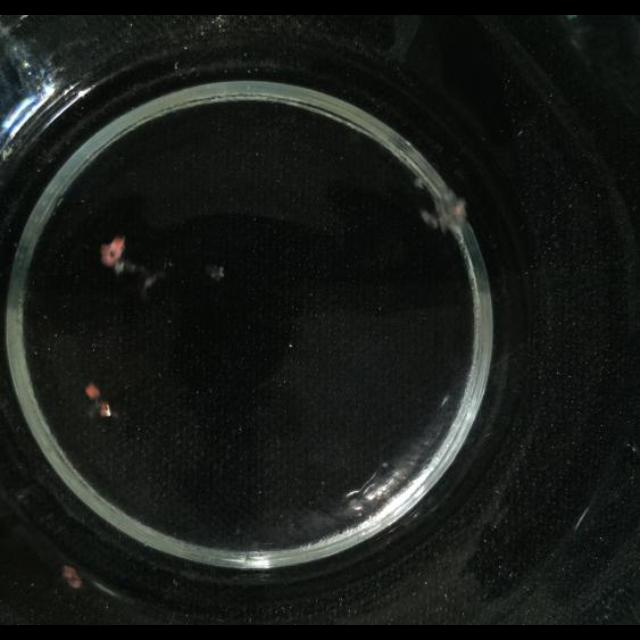Fragment: (410, 174, 480, 240), (100, 233, 162, 293), (55, 554, 109, 596), (76, 377, 116, 427), (60, 553, 86, 599)
microbeads: (204, 264, 224, 280)
